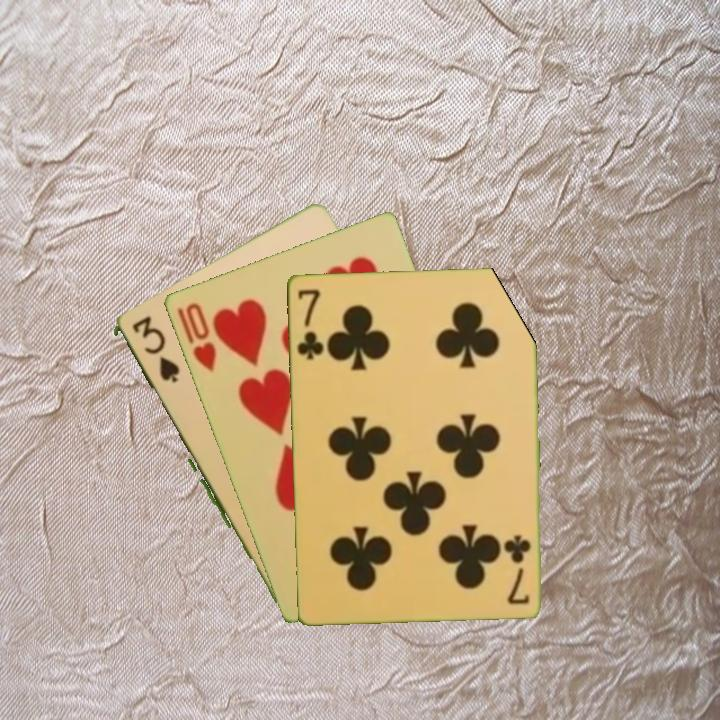10h: (173, 299, 219, 375)
3s: (127, 314, 181, 386)
7c: (293, 285, 326, 363), (504, 530, 533, 607)
